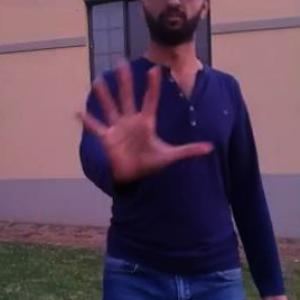follow_hand: (70, 58, 214, 188)
